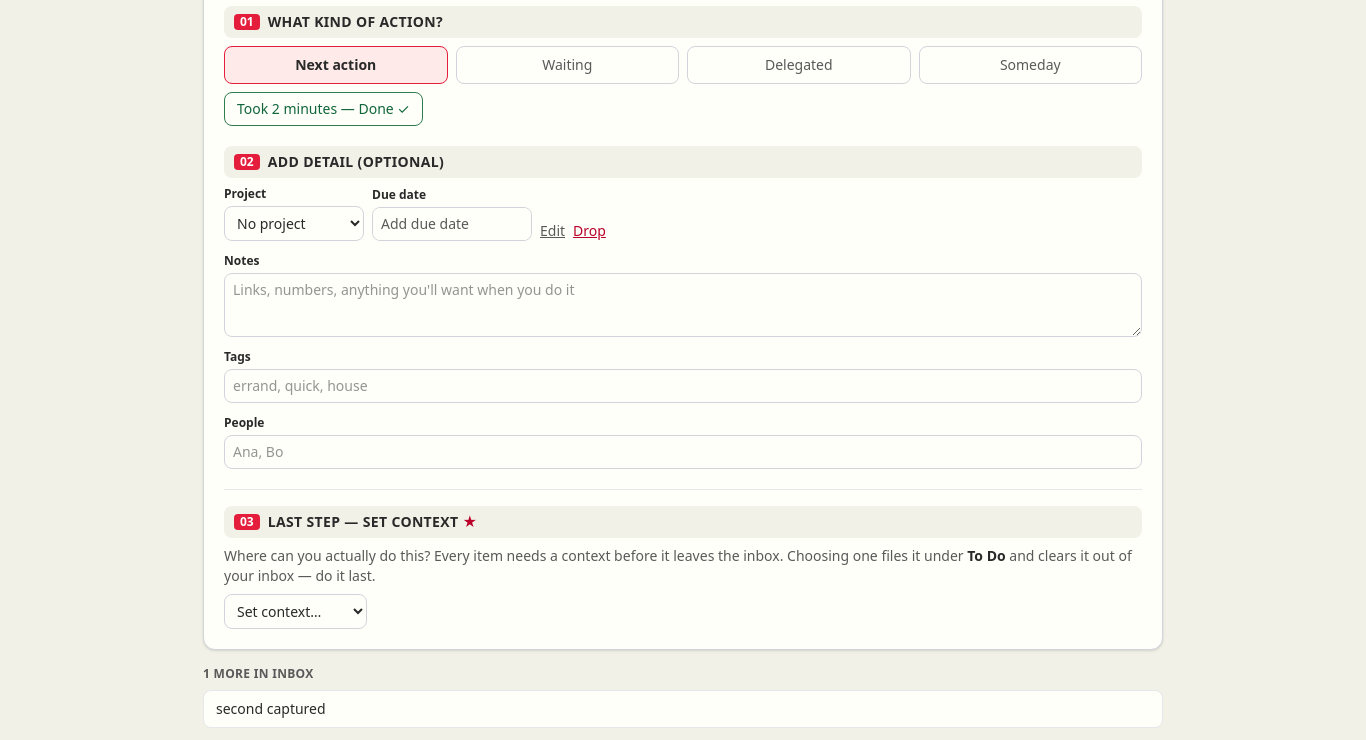
InboxPage triage selection › leaves the queue rows promote-only — no inline rename anywhere but the card
The image size is (1366, 740).
(page scrolled)
Click the button "second captured": (271,708) x1=203 y1=690 x2=1163 y2=728
(page scrolled)
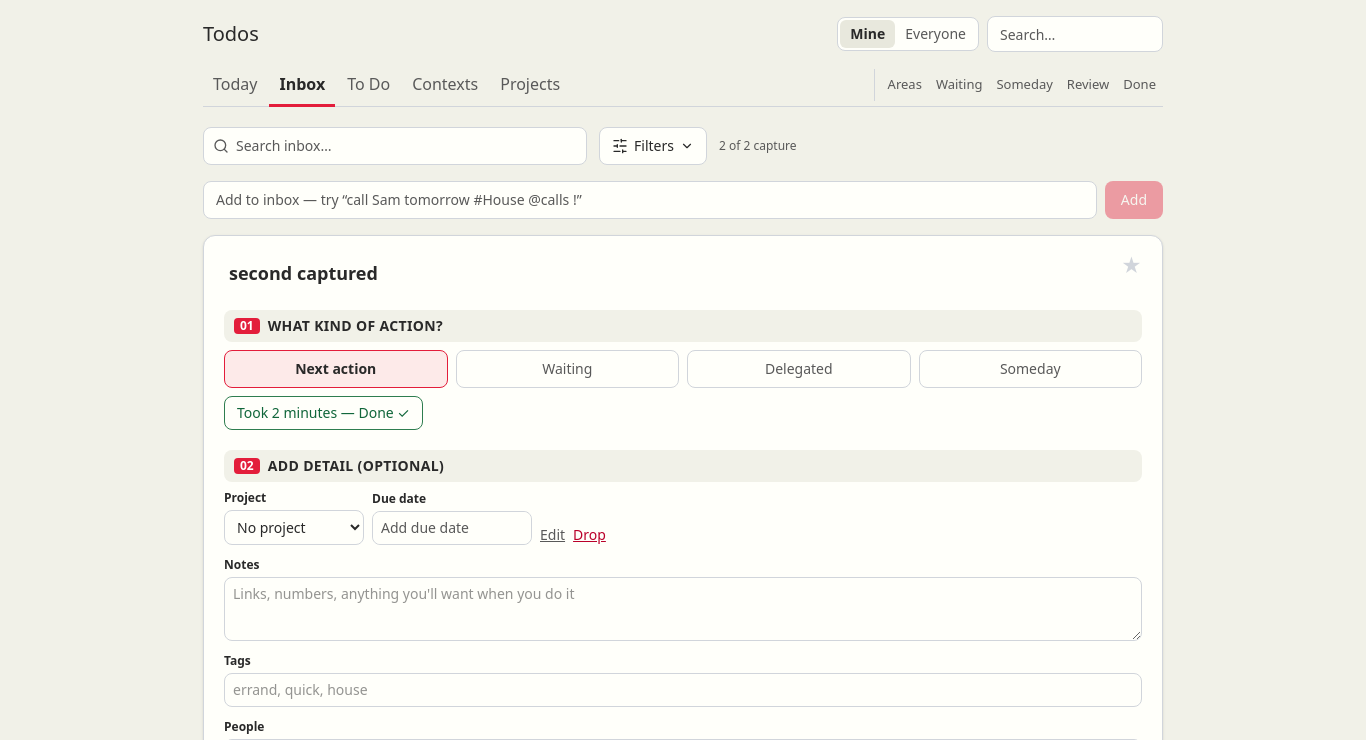
Expected: the button titled "Click to rename" reads "second captured", x1=224 y1=256 x2=383 y2=290
